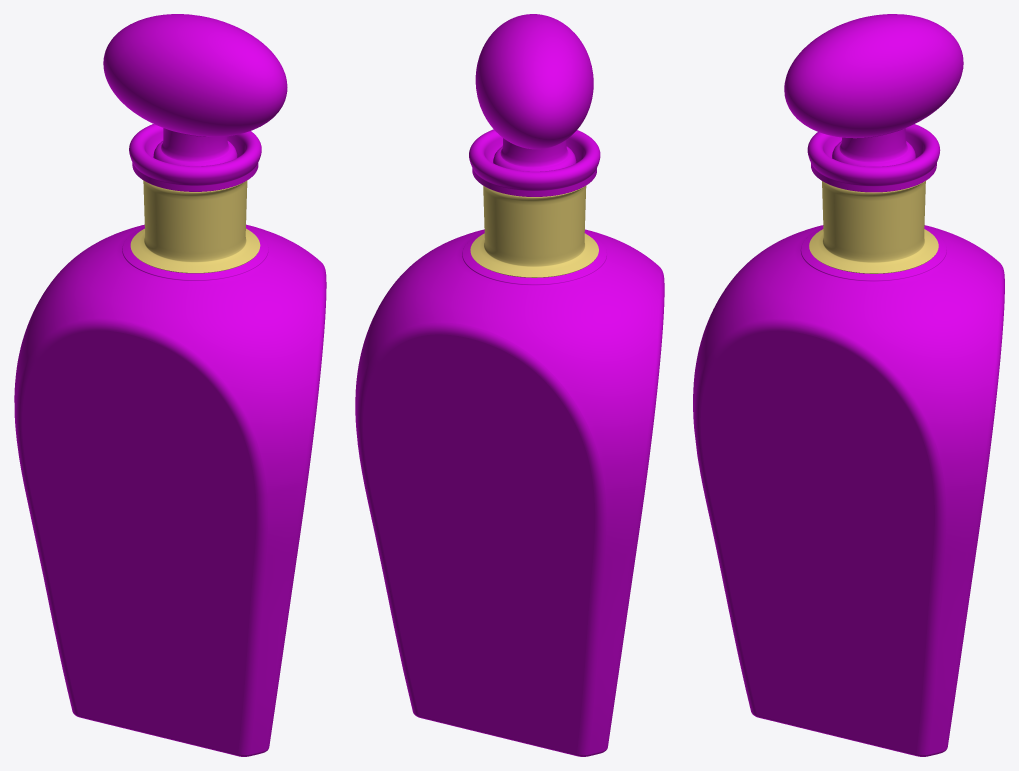
The model's file is bottleNoMat2.glb.
3 views of the same model, side by side, from view 1: azimuth 30°, elevation 25°; view 2: azimuth 150°, elevation 25°; view 3: azimuth 270°, elevation 25° (orthographic).
Visible parts, largest first — view 1: botella-glengoyne, tapa-gleygoyne, botella-glengoyne-aro; view 2: botella-glengoyne, tapa-gleygoyne, botella-glengoyne-aro; view 3: botella-glengoyne, tapa-gleygoyne, botella-glengoyne-aro.
Boxes of the visible parts, left/top/right/bottom form: botella-glengoyne: left=14, top=124, right=326, bottom=756; tapa-gleygoyne: left=103, top=14, right=287, bottom=166; botella-glengoyne-aro: left=130, top=179, right=260, bottom=273; botella-glengoyne: left=355, top=129, right=664, bottom=756; tapa-gleygoyne: left=475, top=14, right=593, bottom=171; botella-glengoyne-aro: left=470, top=185, right=598, bottom=277; botella-glengoyne: left=693, top=124, right=1004, bottom=756; tapa-gleygoyne: left=784, top=14, right=963, bottom=166; botella-glengoyne-aro: left=809, top=180, right=938, bottom=273.
Size of the model in its own units: 0.995 by 2.24 by 0.9195.
